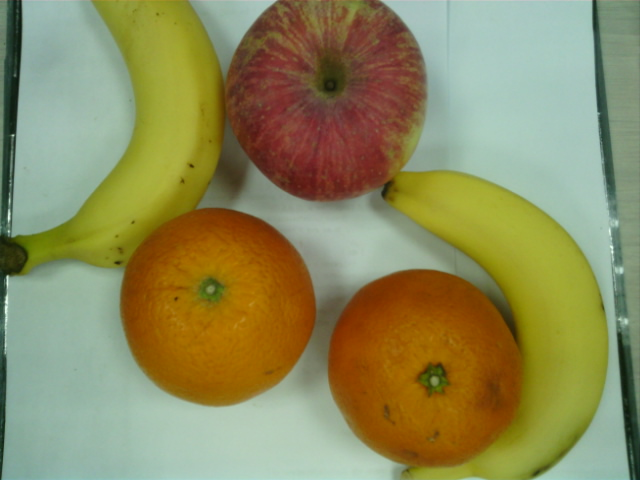normal_apple: (222, 2, 428, 201)
normal_banana: (381, 171, 609, 480), (3, 1, 224, 272)
normal_orange: (328, 268, 526, 467), (120, 207, 315, 407)
